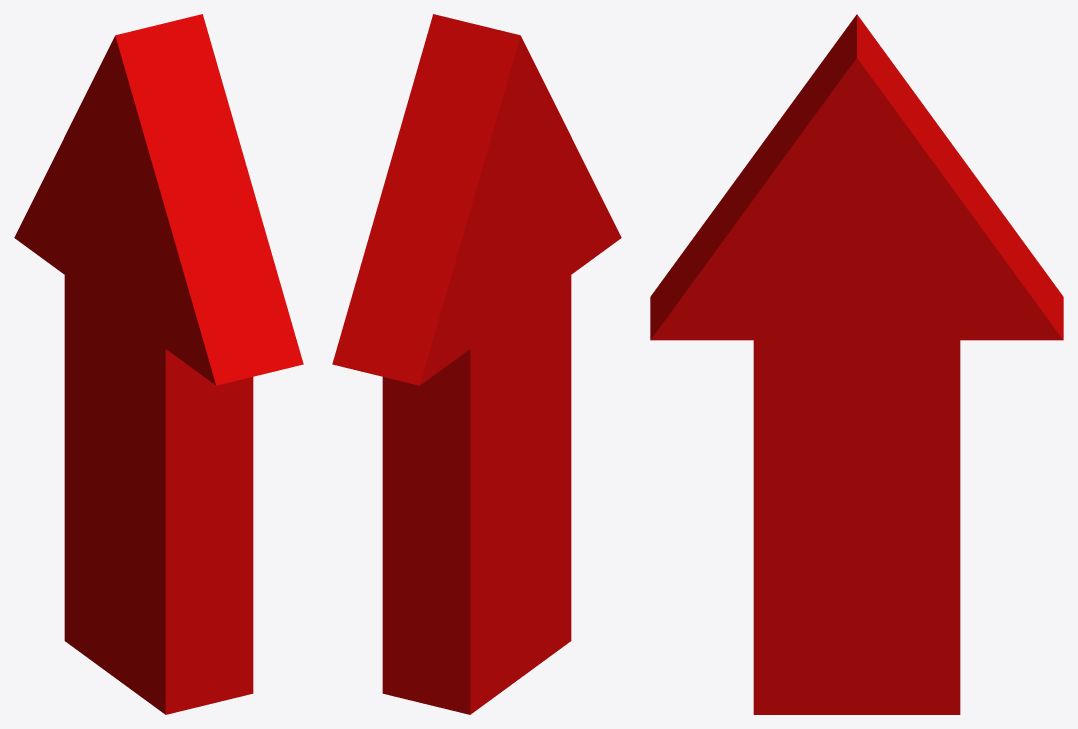
File: arrowIndicator.fbx
3 views of the same model, side by side, from view 1: azimuth 30°, elevation 25°; view 2: azimuth 150°, elevation 25°; view 3: azimuth 270°, elevation 25° (orthographic). The views are drawn at different scales.
Parts seen in each view (by area): view 1: Arrow; view 2: Arrow; view 3: Arrow.
Part boxes in pixels (<box>): Arrow: <box>14,14,303,714</box>; Arrow: <box>332,14,621,714</box>; Arrow: <box>650,14,1063,714</box>.
Size of the model in its own units: 100 by 702 by 400.
